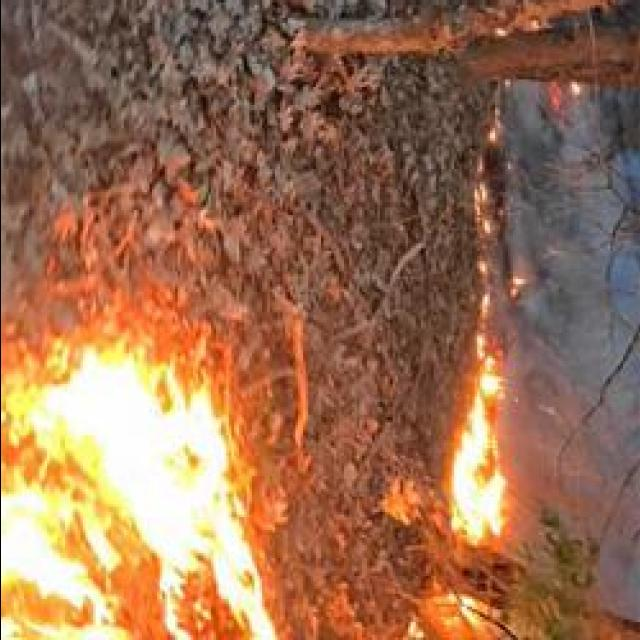fire: (27, 351, 250, 593), (448, 366, 506, 538)
